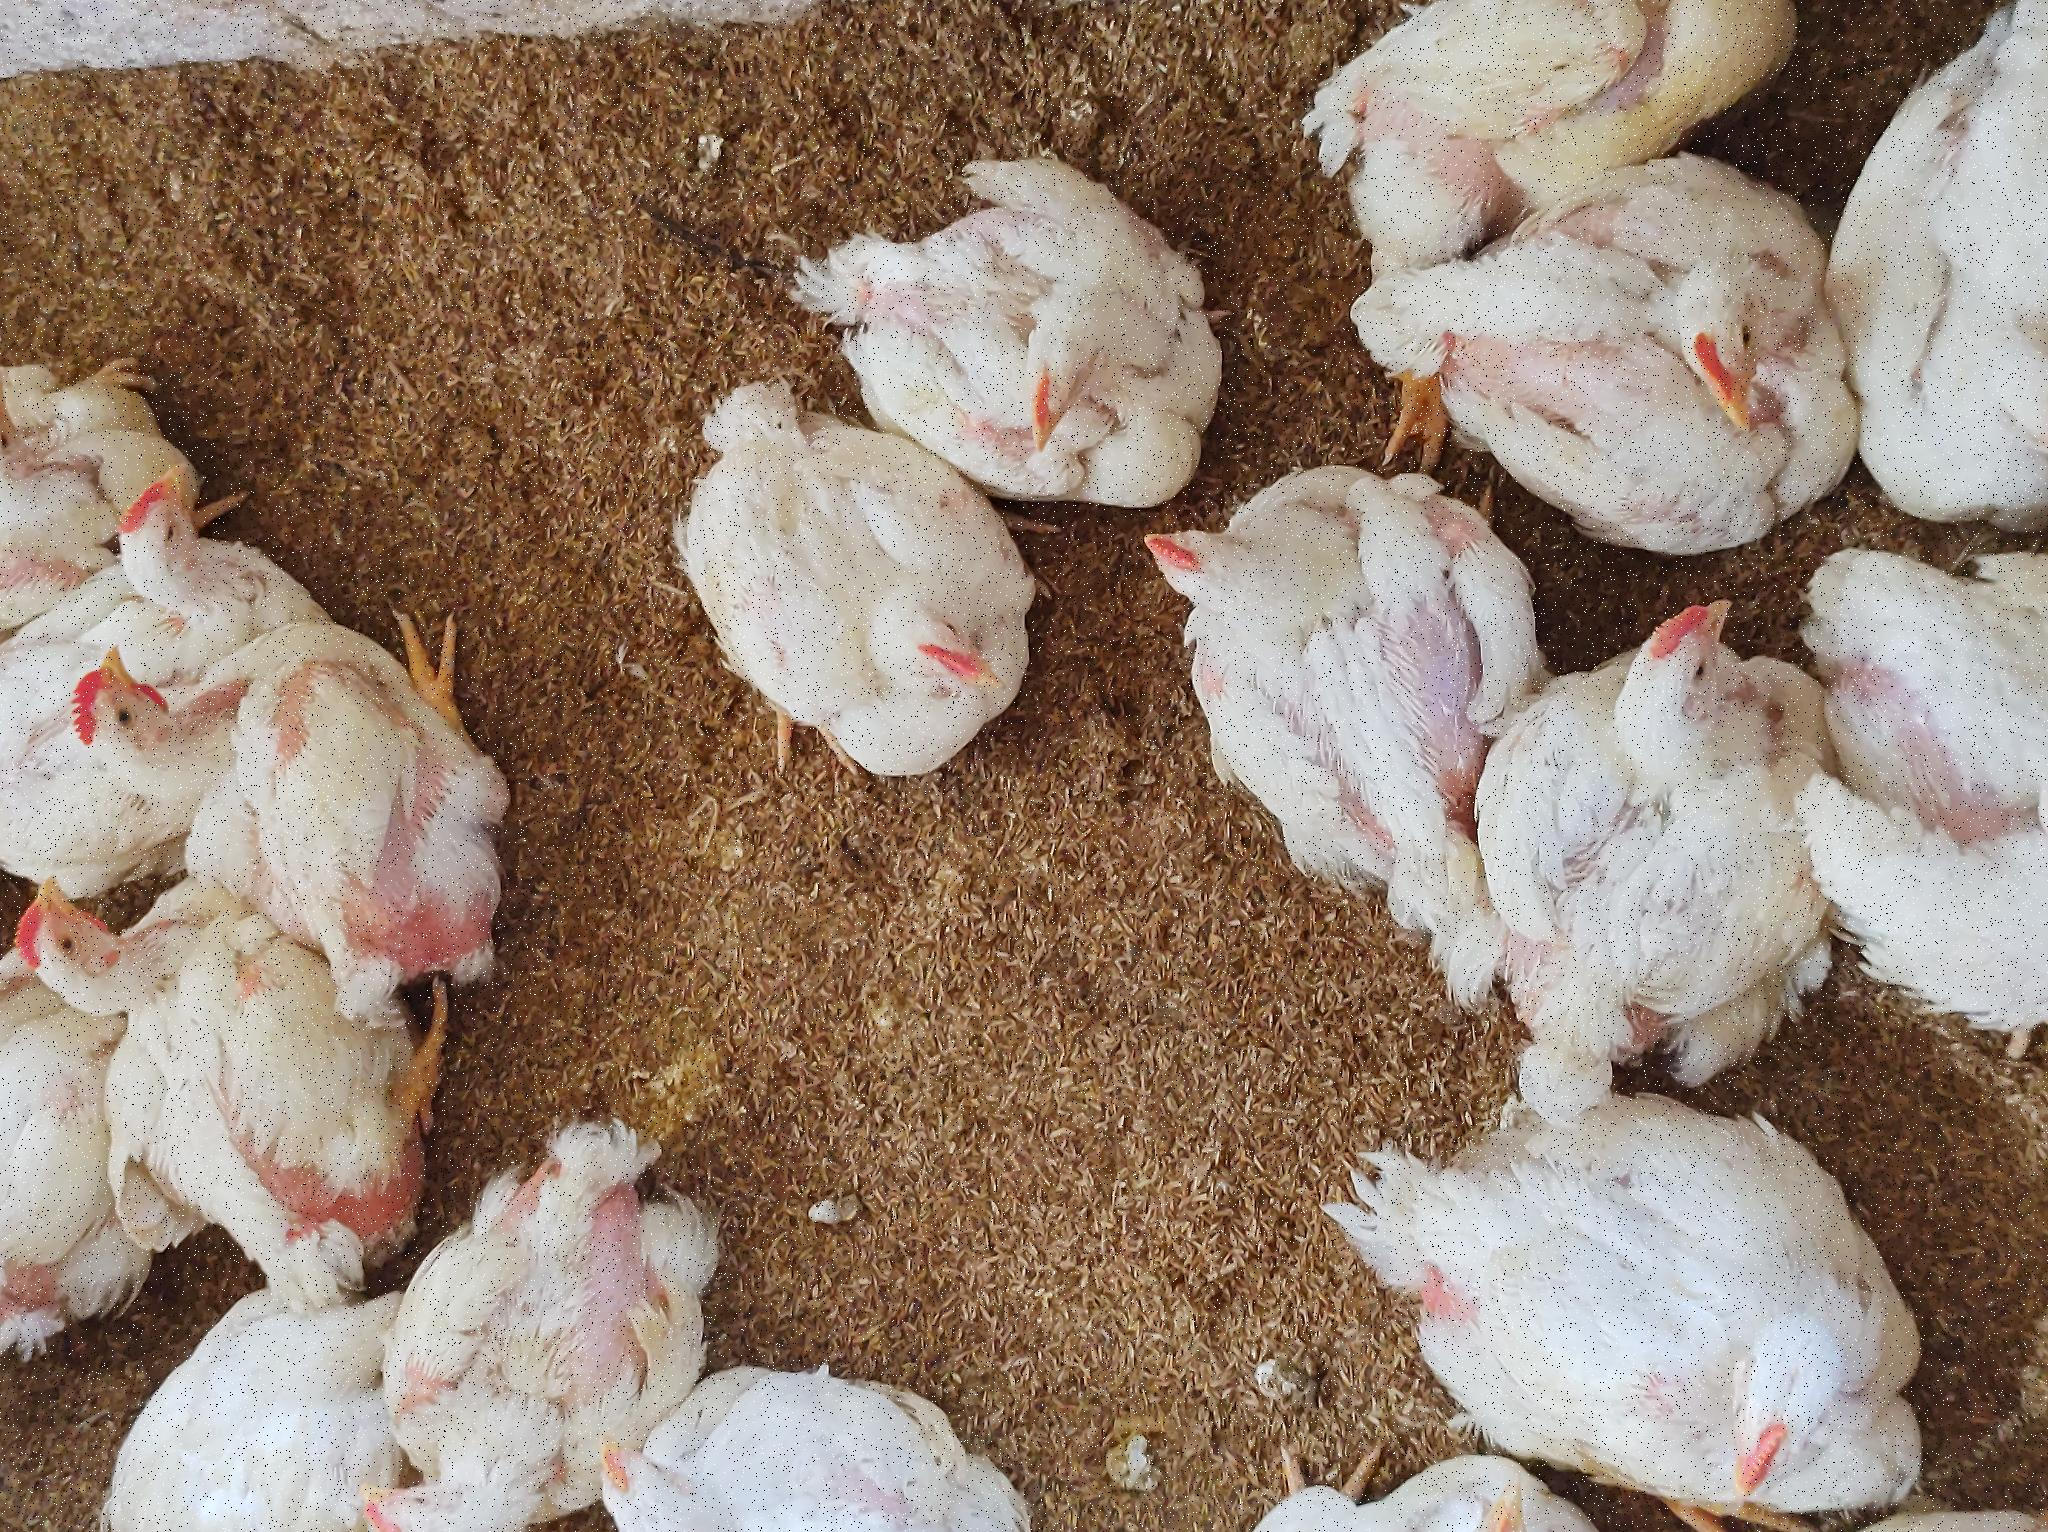Pollos: (640, 1110, 1063, 1532), (2, 307, 422, 724), (269, 14, 677, 414), (1031, 797, 1387, 1221), (629, 60, 938, 504), (745, 697, 1068, 1028), (3, 50, 256, 401), (2, 599, 183, 1048), (13, 1366, 439, 1532), (968, 1384, 1377, 1532), (1293, 1303, 1533, 1532), (920, 95, 1076, 278)
